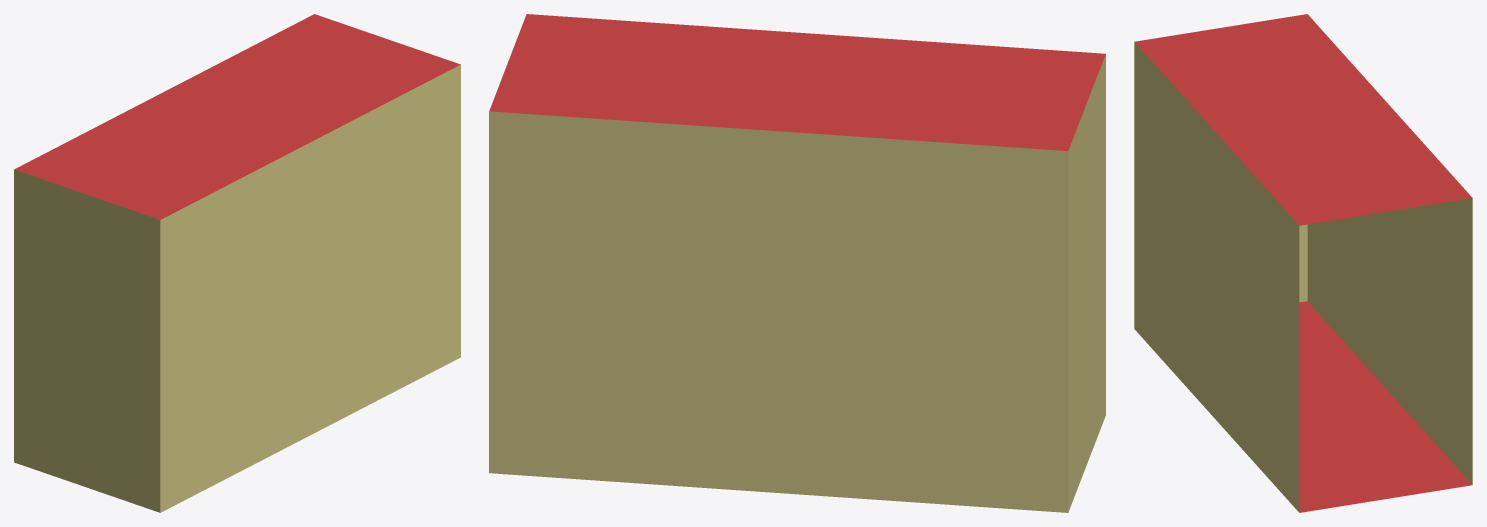
3 renders of one model, left to right at view 1: azimuth 30°, elevation 25°; view 2: azimuth 150°, elevation 25°; view 3: azimuth 270°, elevation 25°, orthographic. The views are drawn at different scales.
Visible parts, largest first — view 1: group_4, group_3; view 2: group_4, group_3; view 3: group_4, group_3, group_5.
Boxes of the visible parts, x1,y1,x2,y2 form: group_4: (14, 64, 460, 512); group_3: (14, 14, 460, 219); group_4: (489, 54, 1105, 512); group_3: (489, 14, 1105, 150); group_4: (1134, 42, 1472, 512); group_3: (1134, 14, 1472, 225); group_5: (1299, 301, 1472, 512).
Size of the model in its own units: 11.54 by 7.79 by 7.29.
